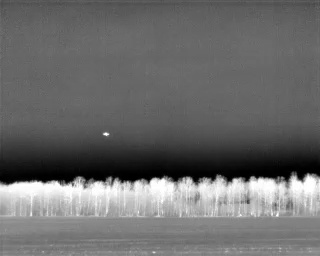DRONE: (99, 127, 114, 142)
